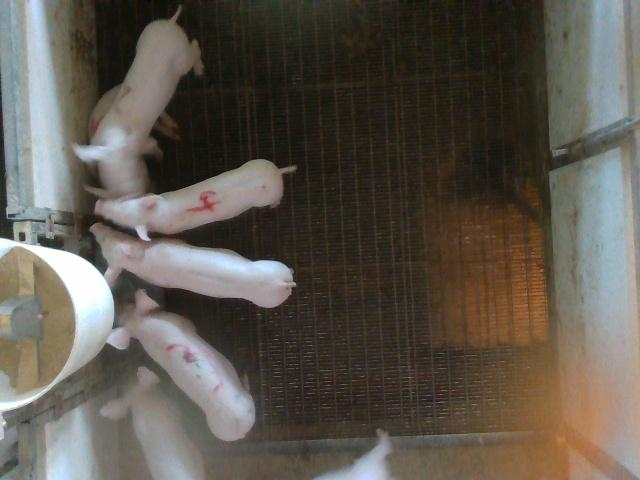pig-2: (74, 8, 202, 194)
pig-3: (108, 289, 255, 441)
pig-4: (95, 159, 296, 241)
